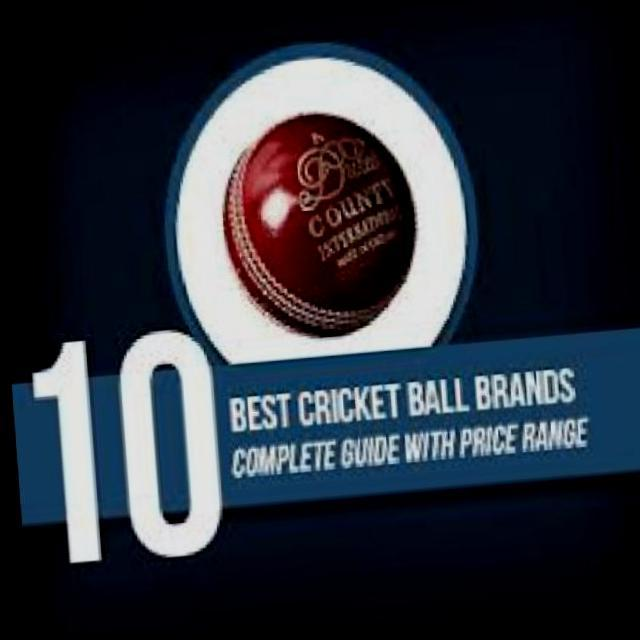-: (212, 112, 453, 343)
